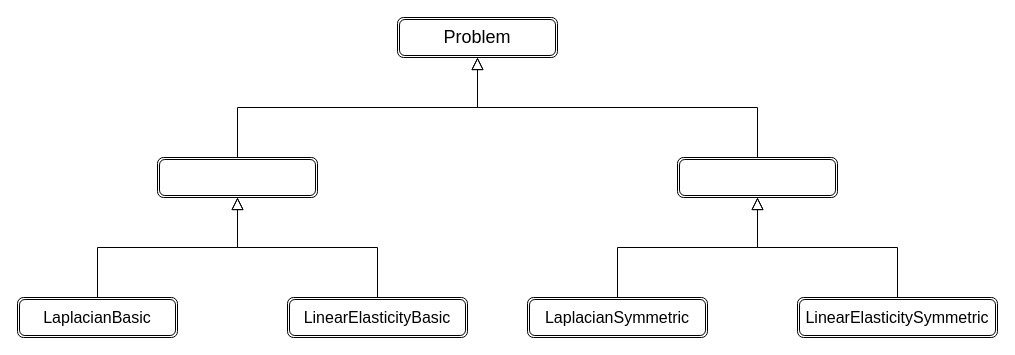
This 1015x355 diagram has some shape labels left out. Here are the shapes that lost their labels. From the top down, the centre of each, then its label:
(x=237, y=177): BasicMethod
(x=757, y=177): SymmetricMethod
